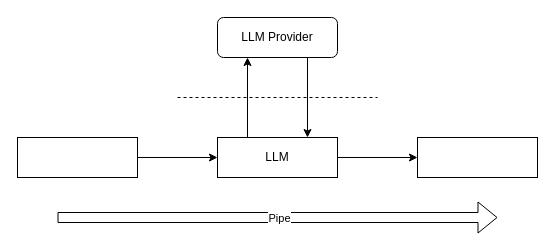
Some shapes in this 555 by 251 pixel diagram are drawn without their labels. The shapes that lost their labels are listed below. From the top down, each one's centre as x and y in pixels, then its label:
(77,157): Input
(477,157): Output
